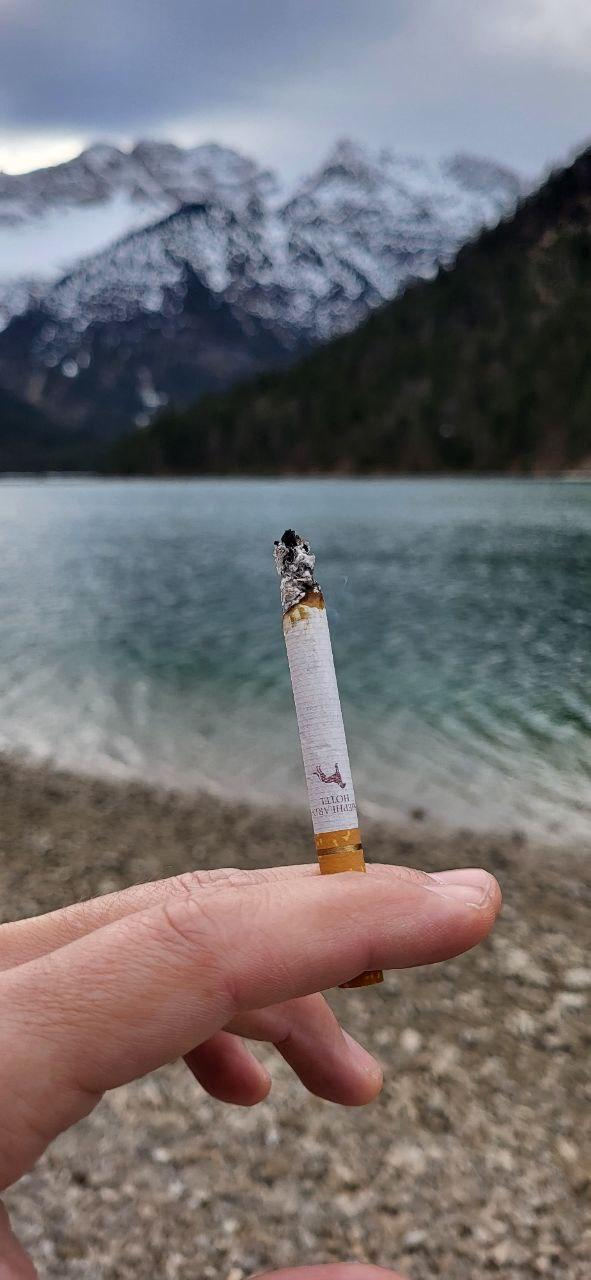cigarette: (275, 530, 365, 875), (340, 970, 382, 986)
